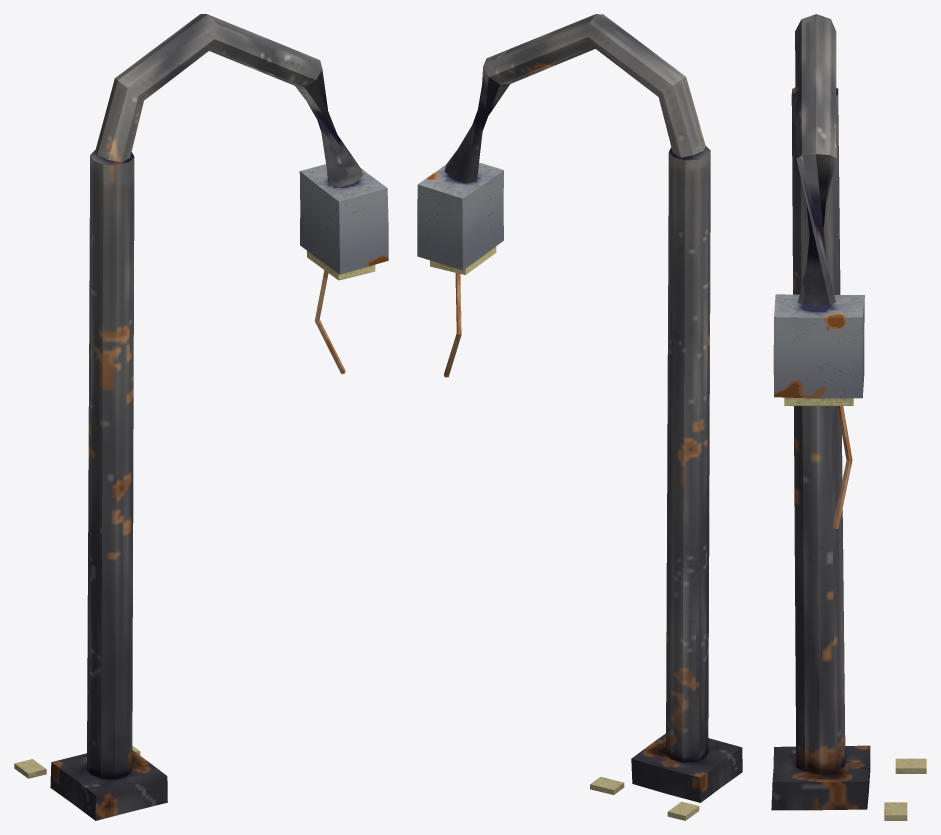
The model's file is StreetlightBroken.glb.
The picture shows the model from 3 angles, left to right: view 1: azimuth 30°, elevation 25°; view 2: azimuth 150°, elevation 25°; view 3: azimuth 270°, elevation 25°; orthographic projection. The views are drawn at different scales.
Parts seen in each view (by area): view 1: Pole, Head, Glass; view 2: Pole, Head, Glass, Wires; view 3: Pole, Head, Glass, Wires.
Boxes of the visible parts, x1,y1,x2,y2 form: Pole: (50, 14, 362, 820); Head: (299, 164, 388, 274); Glass: (14, 251, 375, 778); Pole: (444, 14, 742, 802); Head: (417, 162, 503, 270); Glass: (430, 246, 699, 820); Wires: (444, 273, 461, 377); Pole: (771, 14, 870, 810); Head: (773, 294, 864, 398); Glass: (784, 397, 926, 820); Wires: (832, 406, 852, 528).
Size of the model in its own units: 2.5 by 5.96 by 1.01.
4 materials, 4 textured.
